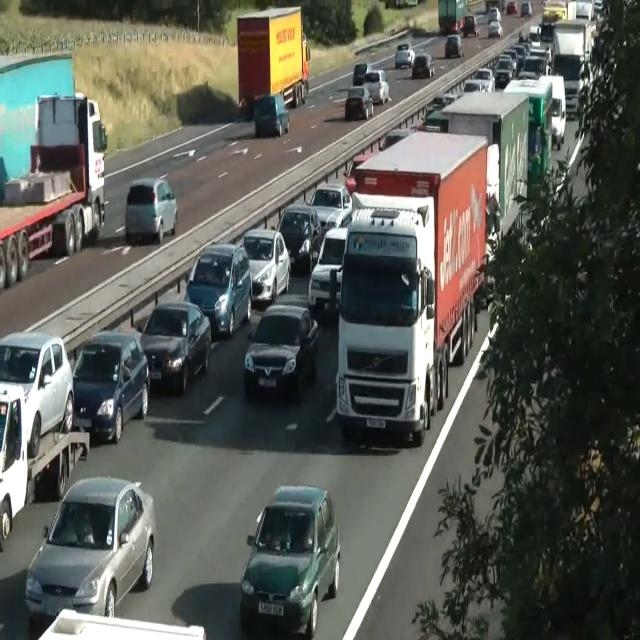bus: (25, 475, 156, 621), (240, 484, 340, 638), (0, 330, 74, 458), (72, 329, 150, 443), (243, 303, 320, 402), (140, 300, 212, 394), (184, 242, 252, 338), (37, 608, 207, 639), (0, 382, 28, 548), (239, 228, 291, 304), (124, 176, 178, 244), (308, 226, 348, 314), (273, 204, 323, 274), (306, 182, 352, 235), (253, 92, 289, 137), (345, 85, 373, 120), (344, 153, 367, 195), (363, 68, 389, 105), (324, 207, 352, 235), (518, 56, 546, 80), (382, 127, 409, 151), (494, 55, 514, 87), (411, 52, 435, 78), (542, 0, 566, 24), (473, 68, 495, 92), (394, 42, 414, 68), (444, 34, 464, 58), (502, 50, 520, 76), (460, 15, 480, 38), (506, 0, 532, 17), (352, 62, 368, 86), (575, 0, 593, 20), (463, 79, 486, 93), (488, 20, 502, 38), (528, 25, 540, 46), (487, 6, 501, 23), (592, 0, 603, 20), (520, 1, 532, 17), (395, 0, 418, 8), (506, 1, 518, 16)
car: (334, 202, 438, 446)
minibus: (350, 129, 488, 411), (0, 90, 108, 290), (0, 382, 90, 550), (237, 4, 310, 120), (503, 75, 553, 193), (549, 19, 595, 118), (437, 0, 478, 37)
